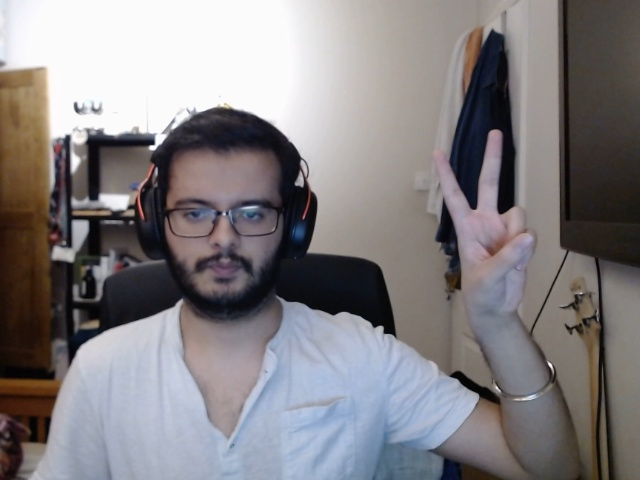Peace: (427, 123, 536, 339)
